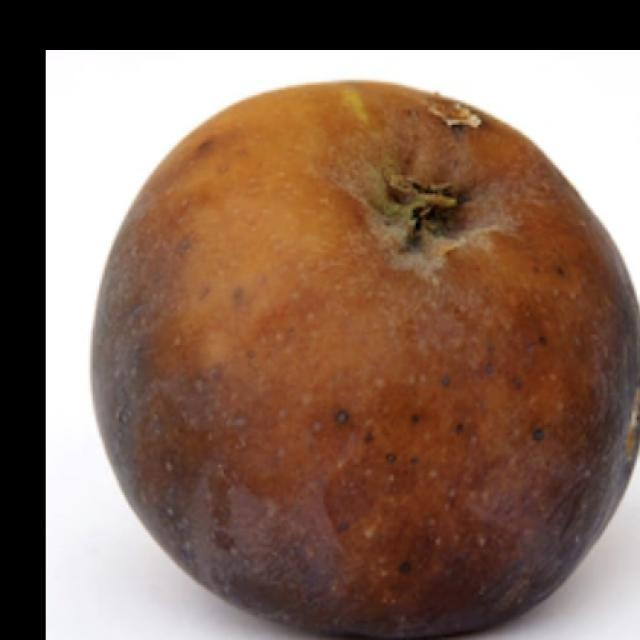Rotten: (98, 78, 640, 640)
